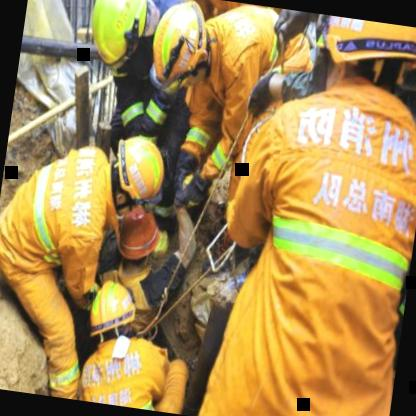helmet: (315, 15, 416, 109), (147, 0, 210, 87), (80, 273, 144, 357), (110, 134, 170, 210), (83, 0, 149, 67), (111, 202, 165, 276)
